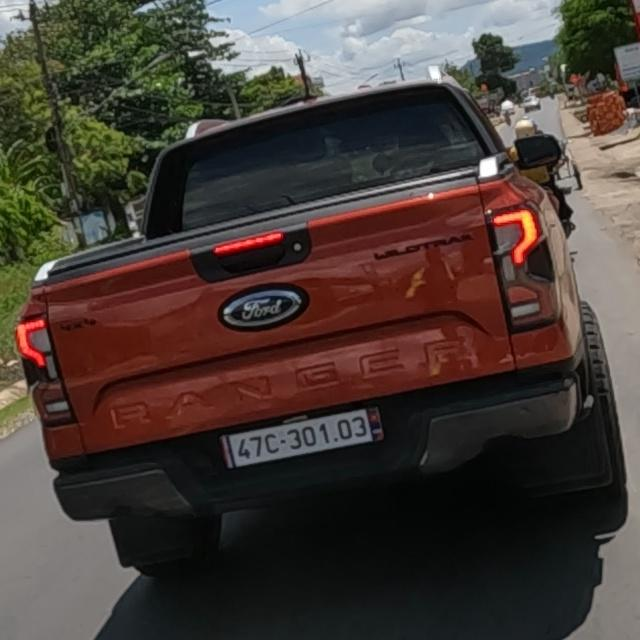license-plate: (220, 408, 381, 470)
